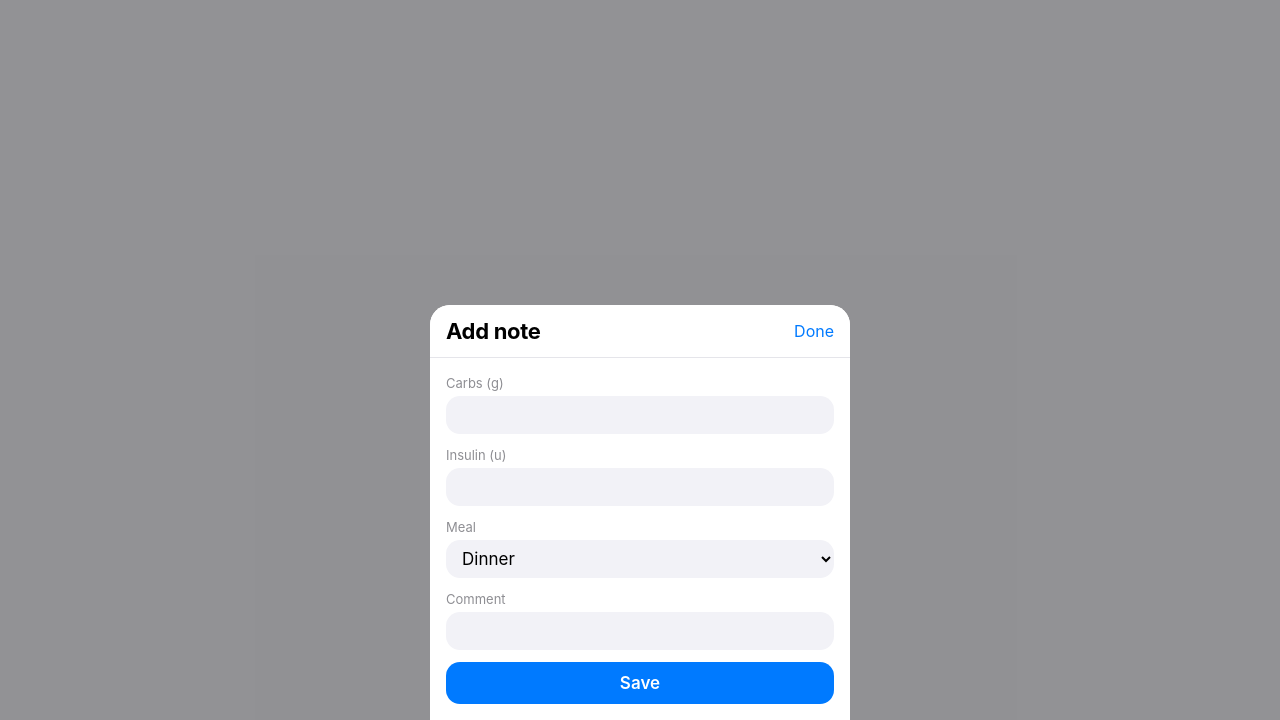
Test: NoteEditorSheet › rejects a note with neither carbs nor insulin
This screenshot has width=1280, height=720.
Click the button "Save" at x=640, y=683, box 446,662 -> 834,704
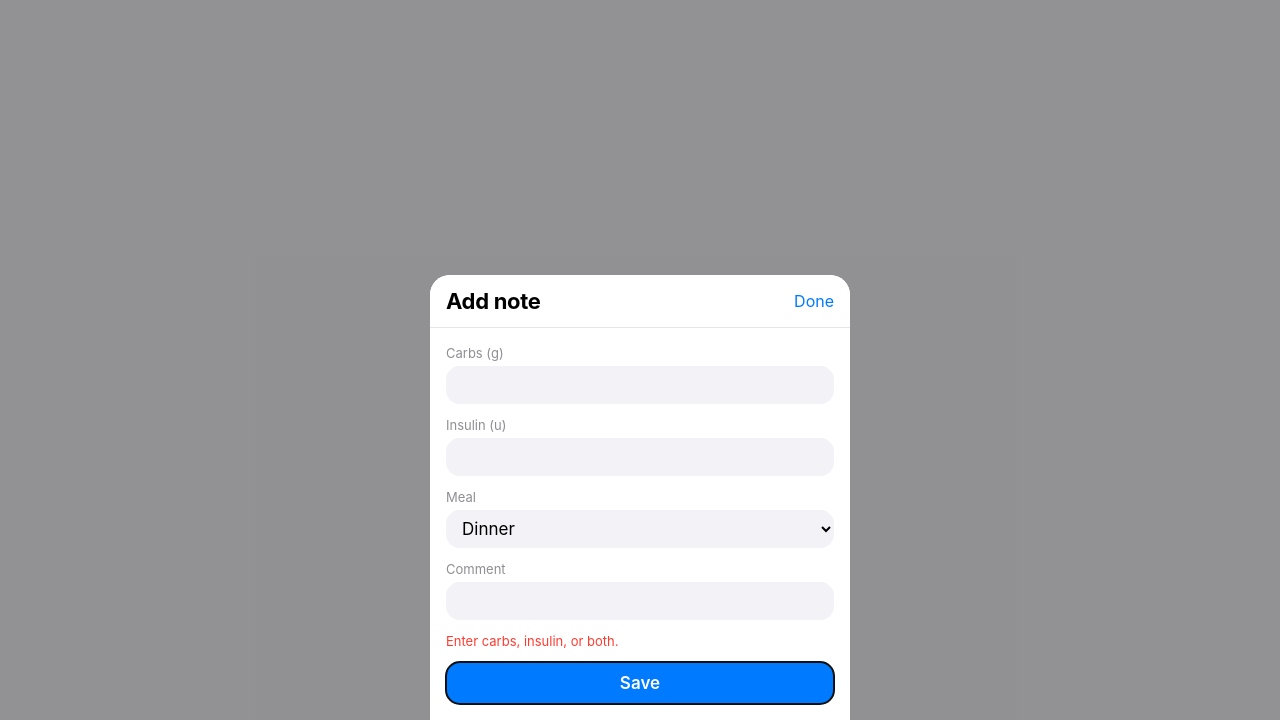
Check: the text "Enter carbs, insulin, or both." is shown, box 446,633 -> 618,649
